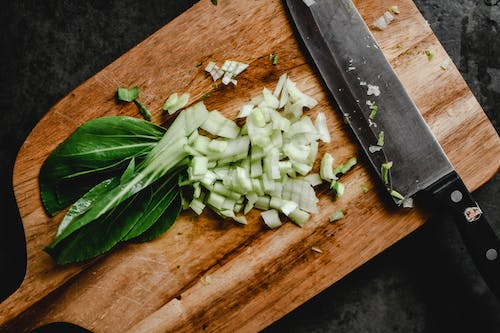knife: (283, 0, 500, 300)
